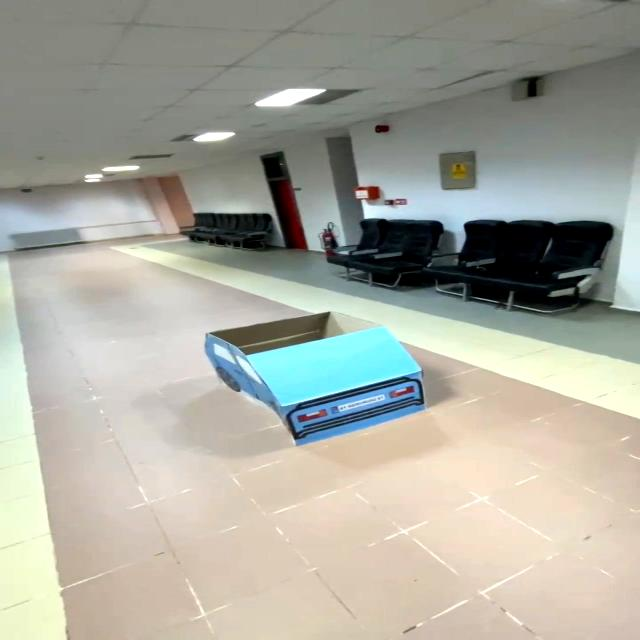blue_car: (160, 299, 452, 458)
